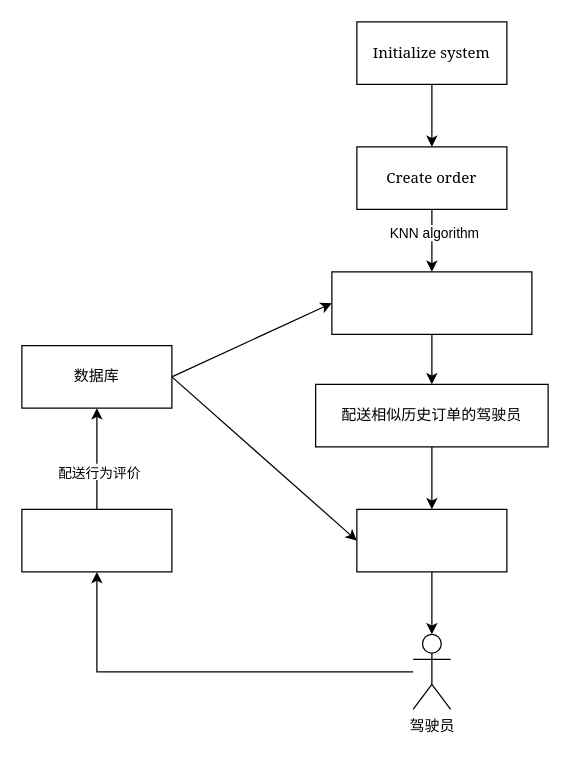
The diagram is 570 pixels wide and 758 high, and some of its shapes have lost their labels. Here are the shapes that lost their labels. From the top down, the centre of each, then its label:
At point 431,302: "Find similar historical orders".
At point 96,540: "数据收集".
At point 431,540: "决策树算法".
